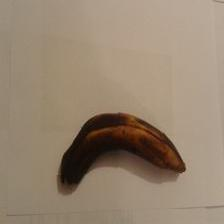Banana Rotten: (50, 108, 194, 201)
